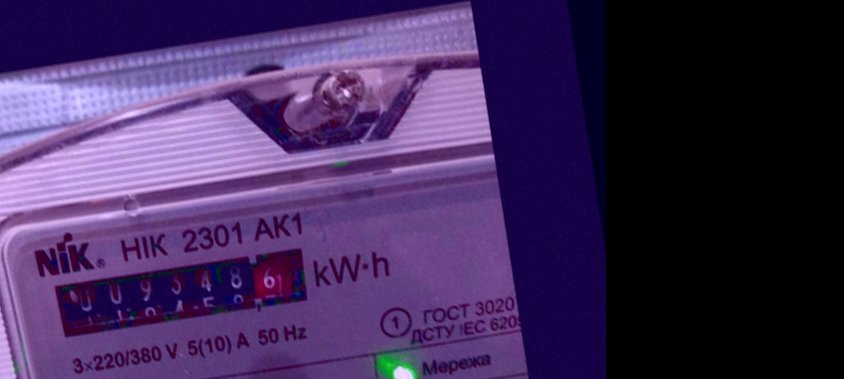0: (75, 284, 92, 311), (105, 279, 123, 304)
3: (165, 269, 183, 297)
4: (195, 264, 213, 293)
6: (257, 261, 278, 290)
8: (224, 260, 243, 290)
9: (134, 274, 153, 302)
screen: (43, 238, 319, 347)
